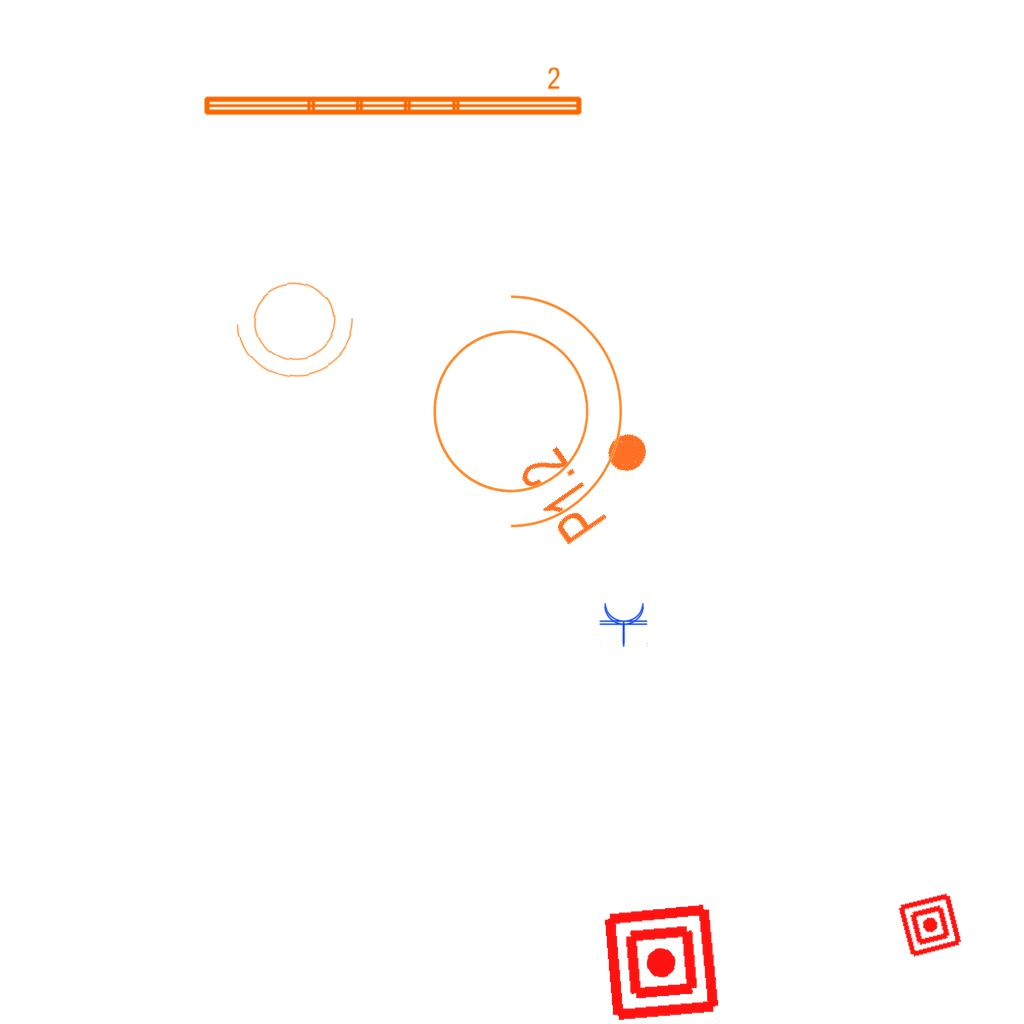Ambulanz_Pendelleuchte_LED: (199, 65, 586, 121)
Downlight_LED_Einbauleuchten_Flur: (513, 400, 672, 550)
NAM-Nichtautomatischer_Melder: (600, 901, 723, 1024), (896, 891, 964, 959)
Scheinwerfer_fuer_Alarmbeleuchtung: (408, 273, 633, 537), (229, 266, 367, 386)
Schukosteckdose_einfach: (599, 601, 649, 644), (599, 604, 649, 647)
